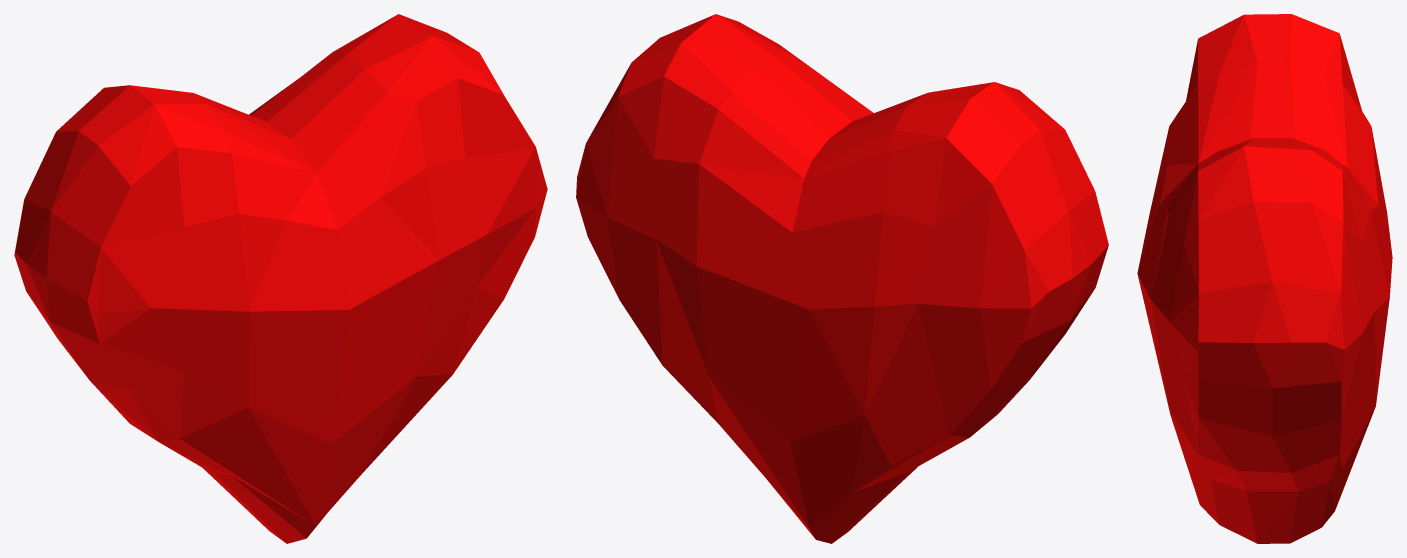
The model's file is HeartItem.fbx.
3 views of the same model, side by side, from view 1: azimuth 30°, elevation 25°; view 2: azimuth 150°, elevation 25°; view 3: azimuth 270°, elevation 25° (orthographic). The views are drawn at different scales.
Parts seen in each view (by area): view 1: Cube; view 2: Cube; view 3: Cube.
Boxes of the visible parts, left/top/right/bottom form: Cube: left=14, top=14, right=547, bottom=543; Cube: left=576, top=14, right=1108, bottom=543; Cube: left=1137, top=14, right=1392, bottom=543.
Bounding box in the file's own units: 411 × 389 × 194.
